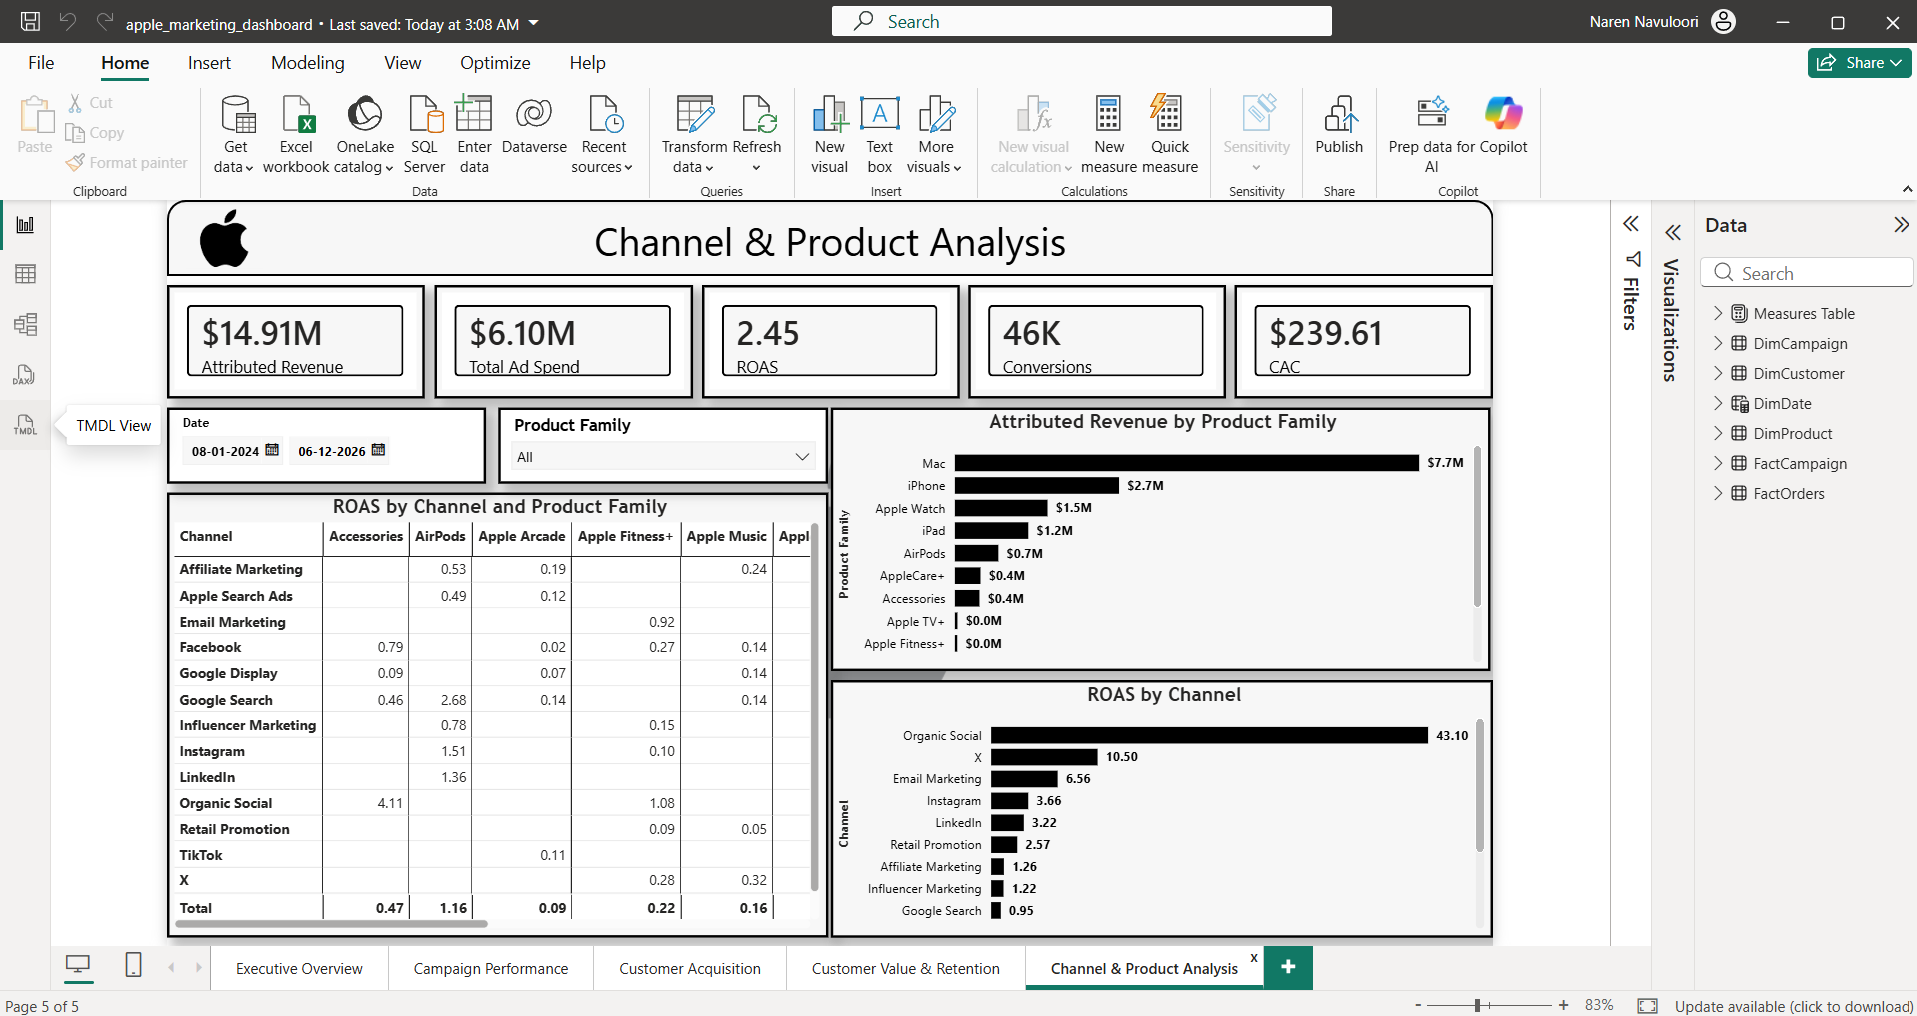

The dashboard page shown, as its layout file describes it:
{"tool":"powerbi","page":{"name":"Channel & Product Analysis","canvas":[1280,720],"ordinal":4},"visuals":[{"type":"shape","box":[0,0,1280.3,73.4],"z":0},{"type":"image","box":[18.3,6.1,74.6,61.1],"z":1000},{"type":"cardVisual","fields":{"Data":["Measures Table.Attributed Revenue"]},"box":[0,82,249,109.8],"z":2000},{"type":"cardVisual","fields":{"Data":["Measures Table.Total Ad Spend"]},"box":[257.6,82,249.7,109.8],"z":3000},{"type":"cardVisual","fields":{"Data":["Measures Table.ROAS"]},"box":[516,82,248.5,109.8],"z":4000},{"type":"cardVisual","fields":{"Data":["Measures Table.Conversions"]},"box":[773.1,82,248.5,109.8],"z":5000},{"type":"cardVisual","fields":{"Data":["Measures Table.CAC"]},"box":[1030.3,82,249.7,109.8],"z":6000},{"type":"pivotTable","title":"ROAS by Channel and Product Family","fields":{"Values":["Measures Table.ROAS"],"Rows":["FactCampaign.channel"],"Columns":["DimProduct.product_family"]},"box":[0,282.3,638.2,429.5],"z":7000},{"type":"slicer","fields":{"Values":["DimDate.Date"]},"box":[0,200.3,307.6,73.6],"z":8000},{"type":"slicer","fields":{"Values":["DimProduct.product_family"]},"box":[319.7,200.3,318.5,73.6],"z":9000},{"type":"clusteredBarChart","title":"Attributed Revenue by Product Family","fields":{"Category":["DimProduct.product_family"],"Y":["Measures Table.Attributed Revenue"]},"box":[640.6,200.3,637,254.6],"z":10000},{"type":"clusteredBarChart","title":"ROAS by Channel","fields":{"Category":["FactCampaign.channel"],"Y":["Measures Table.ROAS"]},"box":[640.6,463.3,639.4,248.5],"z":11000}]}

Visuals, with their boxes on the page's 1280x720 design canvas (x1, y1, x2, y2). These are canvas units, not pixel positions in the 1917x1016 screenshot, which may show the page scaled, cropped or inside an application window:
shape: <bbox>0, 0, 1280, 73</bbox>
image: <bbox>18, 6, 93, 67</bbox>
cardVisual - Measures Table.Attributed Revenue: <bbox>0, 82, 249, 192</bbox>
cardVisual - Measures Table.Total Ad Spend: <bbox>258, 82, 507, 192</bbox>
cardVisual - Measures Table.ROAS: <bbox>516, 82, 764, 192</bbox>
cardVisual - Measures Table.Conversions: <bbox>773, 82, 1022, 192</bbox>
cardVisual - Measures Table.CAC: <bbox>1030, 82, 1280, 192</bbox>
"ROAS by Channel and Product Family" pivotTable: <bbox>0, 282, 638, 712</bbox>
slicer - DimDate.Date: <bbox>0, 200, 308, 274</bbox>
slicer - DimProduct.product_family: <bbox>320, 200, 638, 274</bbox>
"Attributed Revenue by Product Family" clusteredBarChart: <bbox>641, 200, 1278, 455</bbox>
"ROAS by Channel" clusteredBarChart: <bbox>641, 463, 1280, 712</bbox>
